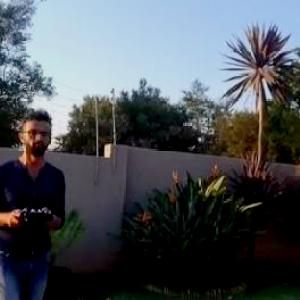follow: (0, 106, 73, 299)
